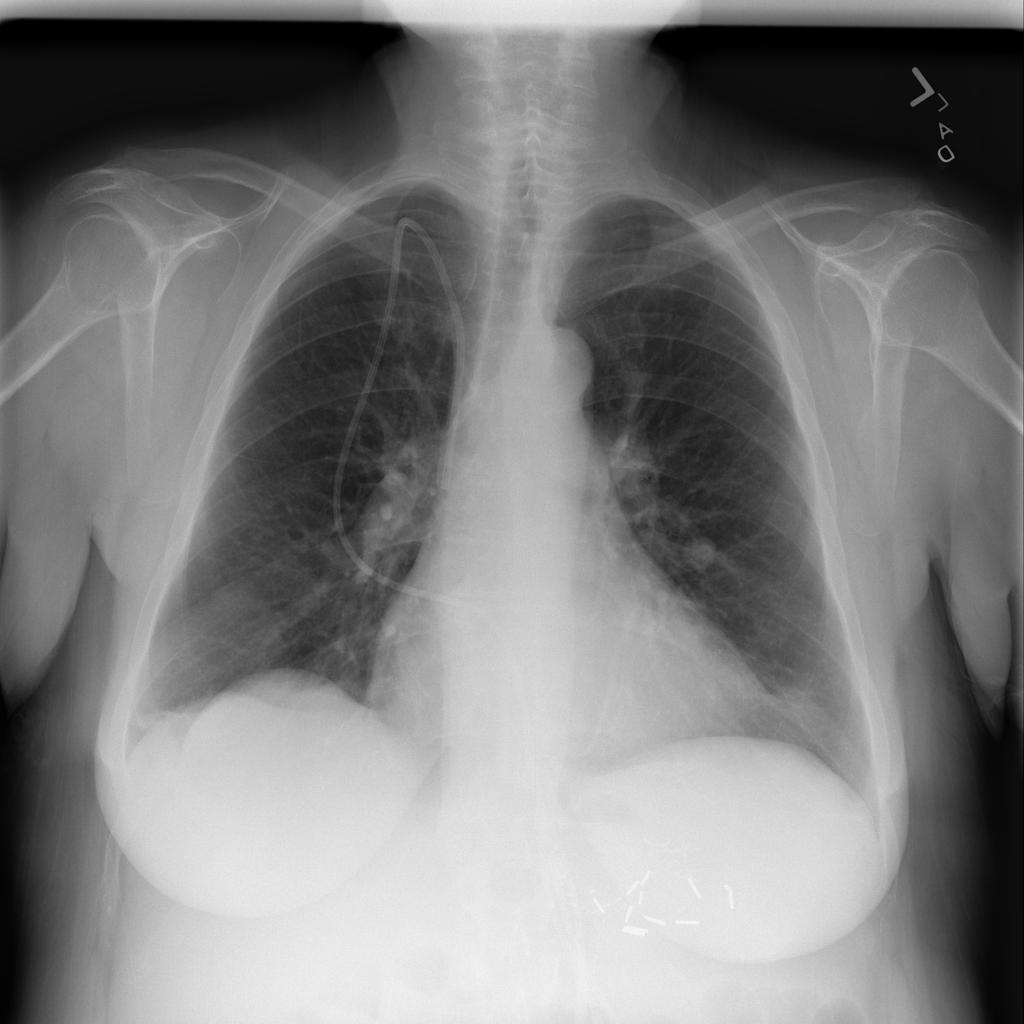nodule: (669, 516, 736, 587)
